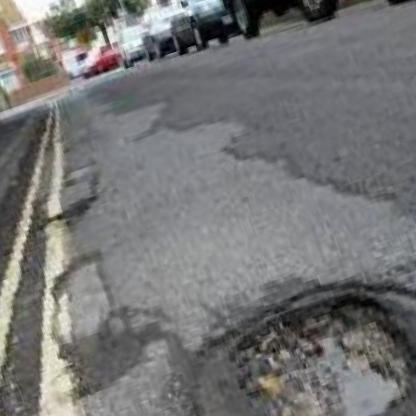pothole: (207, 263, 416, 416)
